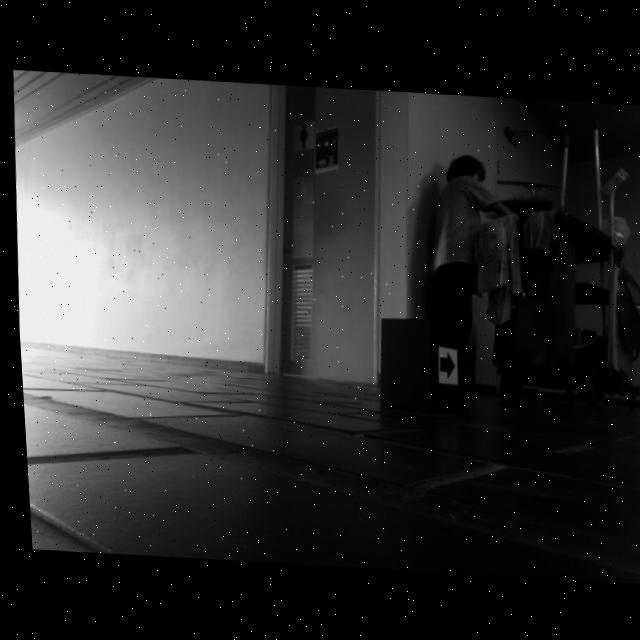RIGHT: (434, 348, 450, 378)
